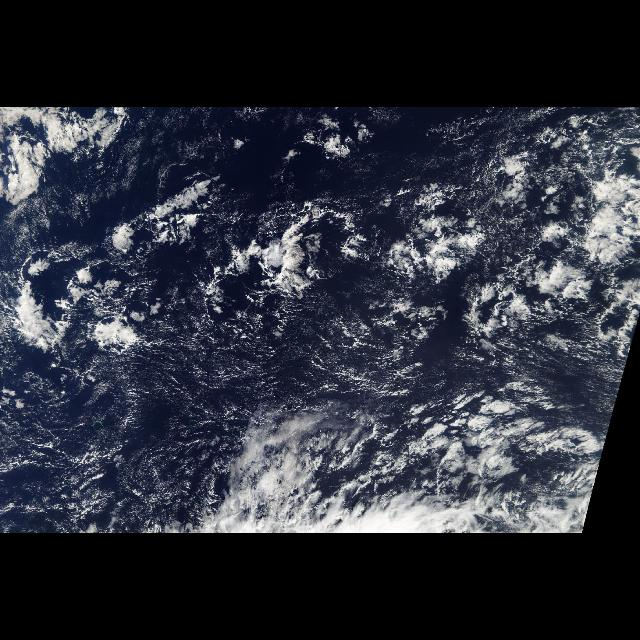Fish: (152, 401, 616, 533)
Gravel: (202, 118, 590, 360)
Sugar: (1, 320, 406, 532)
